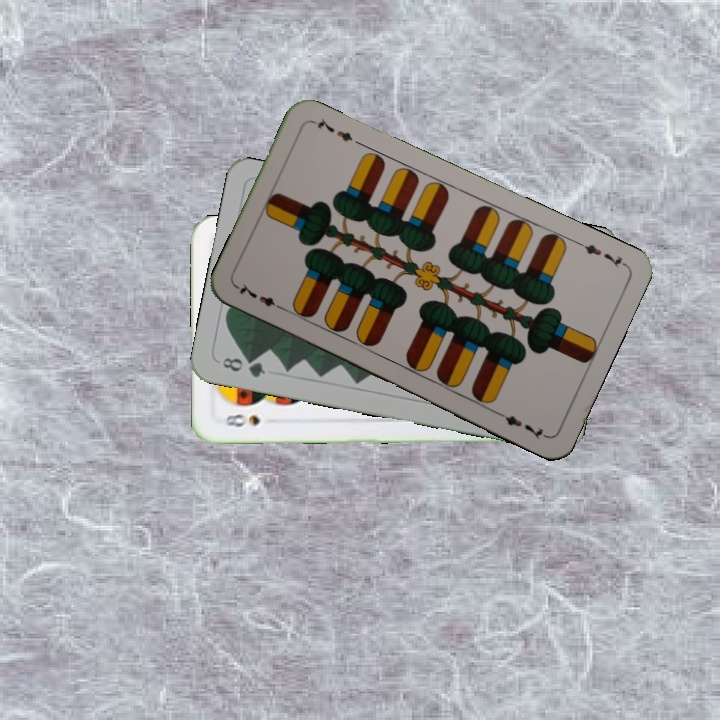E7: (233, 280, 288, 314), (573, 237, 628, 270)
G8: (218, 353, 268, 381)
S8: (221, 409, 262, 429)
